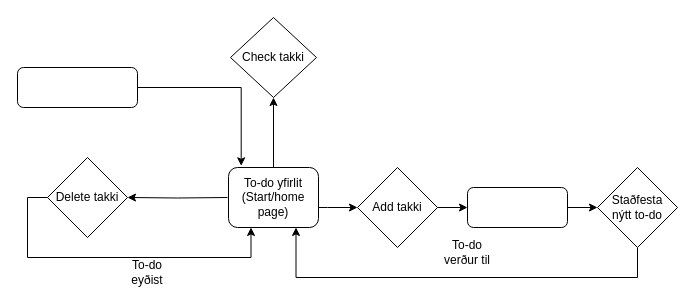
Image size: 695x305. Some labels were removed from this diagram. The shapes that lost their labels are listed below. From the top down, each one's box as (x1, y1, x2, y2) in pixels, then its label:
(16, 66, 138, 108): Login?
(466, 186, 568, 228): Nýtt to-do Form
